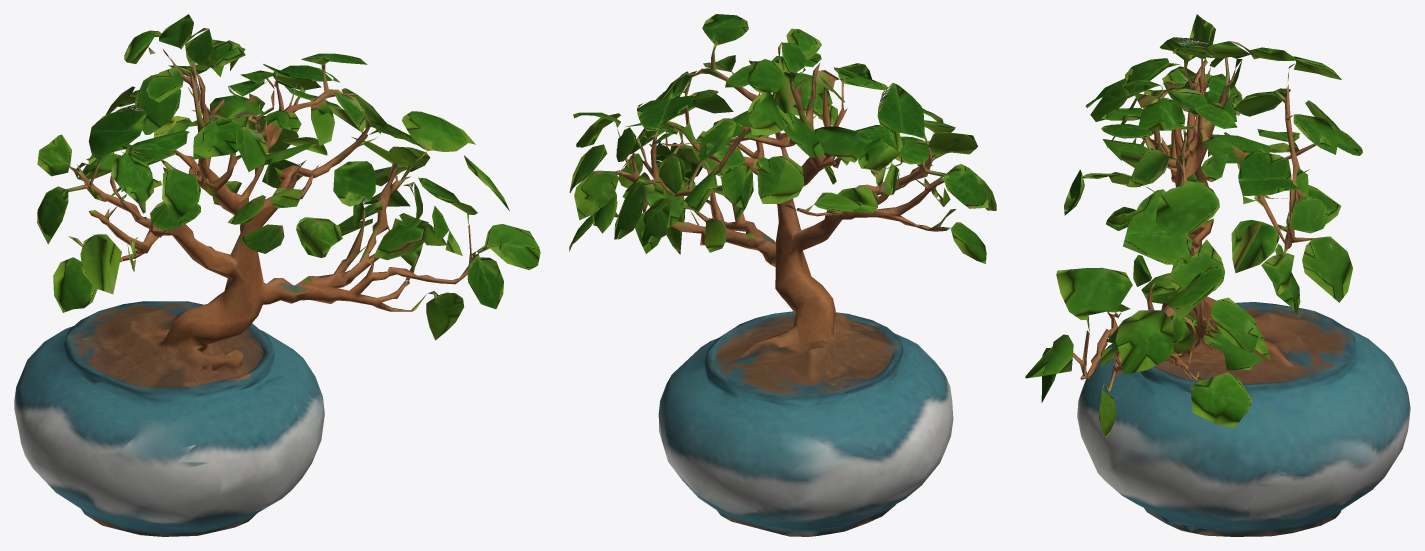
File: cay-bo-de-non.glb
The picture shows the model from 3 angles, left to right: view 1: azimuth 30°, elevation 25°; view 2: azimuth 150°, elevation 25°; view 3: azimuth 270°, elevation 25°; orthographic projection. The views are drawn at different scales.
Size of the model in its own units: 1.88 by 1.9 by 1.4.
1 material, 1 textured.
